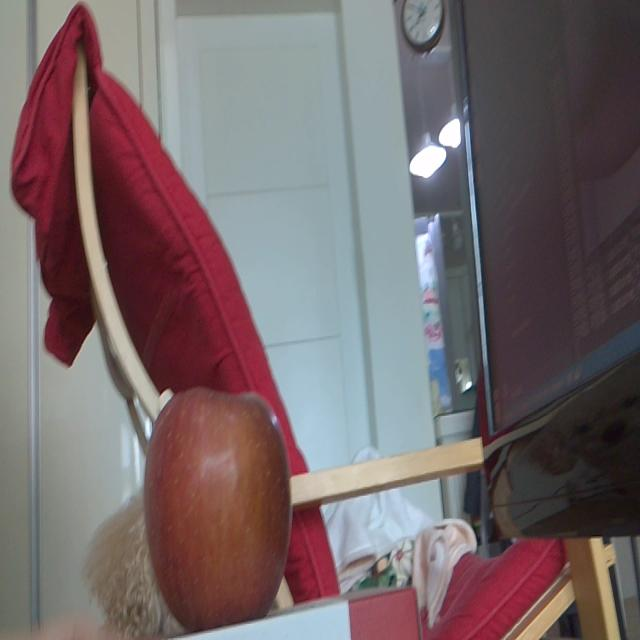apple: (146, 390, 294, 625)
